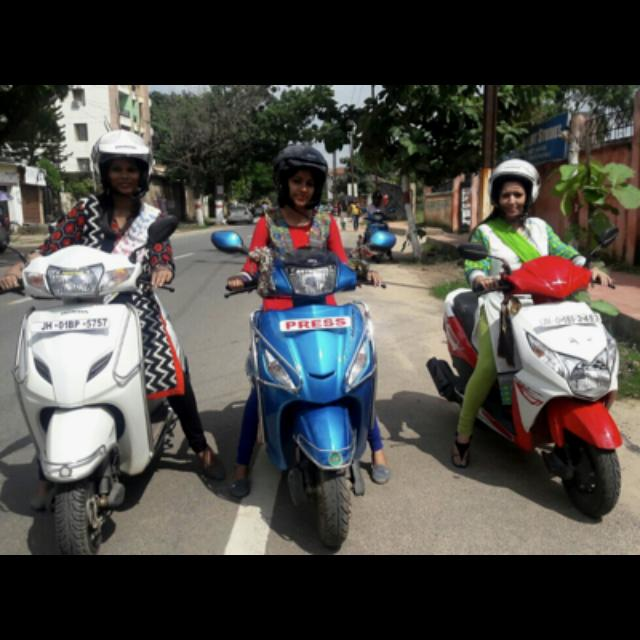With Helmet: (78, 126, 164, 210), (267, 134, 333, 212), (477, 156, 547, 224)
